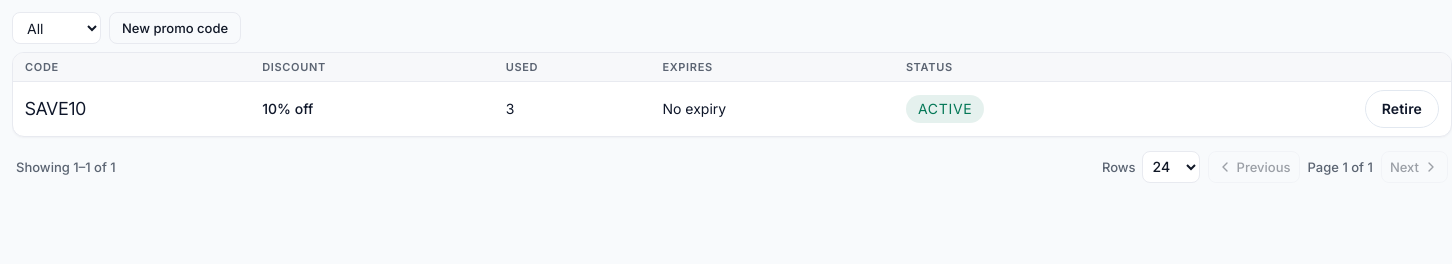
Scenario: retiring › says plainly that checkout will now refuse it
Expected: the 1st text "SAVE10" is shown, [25,98,86,118]
Click the 2nd button named "retire" at (1402,108), box [1365,90,1439,128]
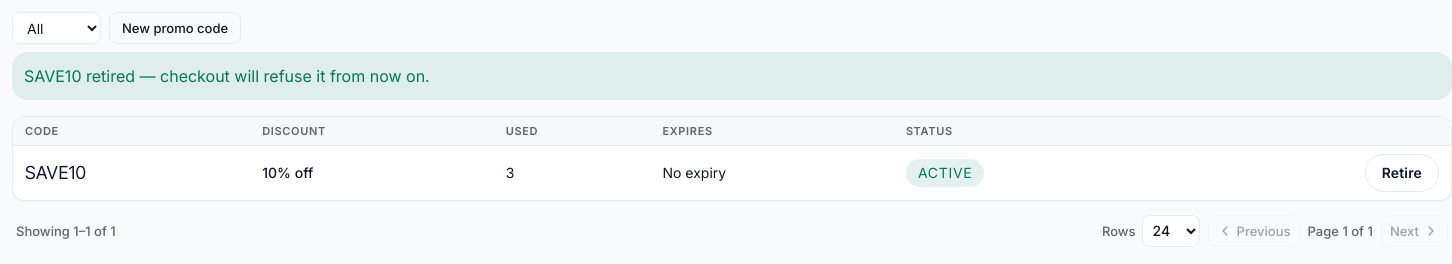
Now the text "checkout will refuse it" is shown, box [24,66,430,86]
